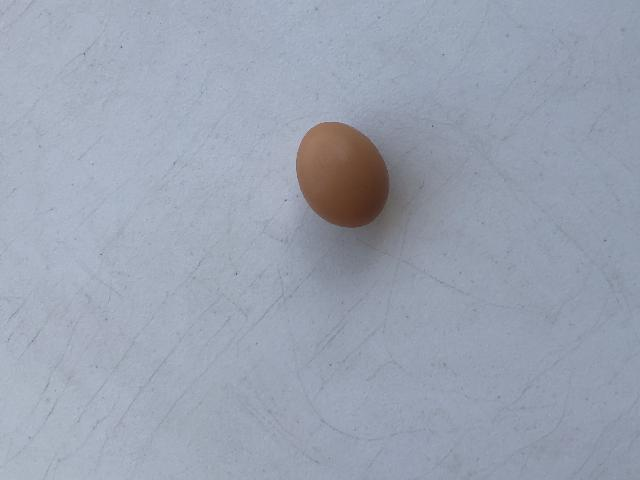Sano: (295, 120, 390, 228)
